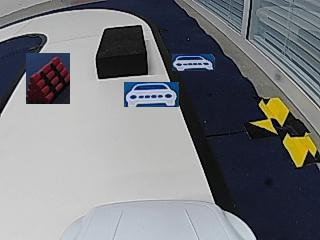block: (95, 24, 148, 78)
